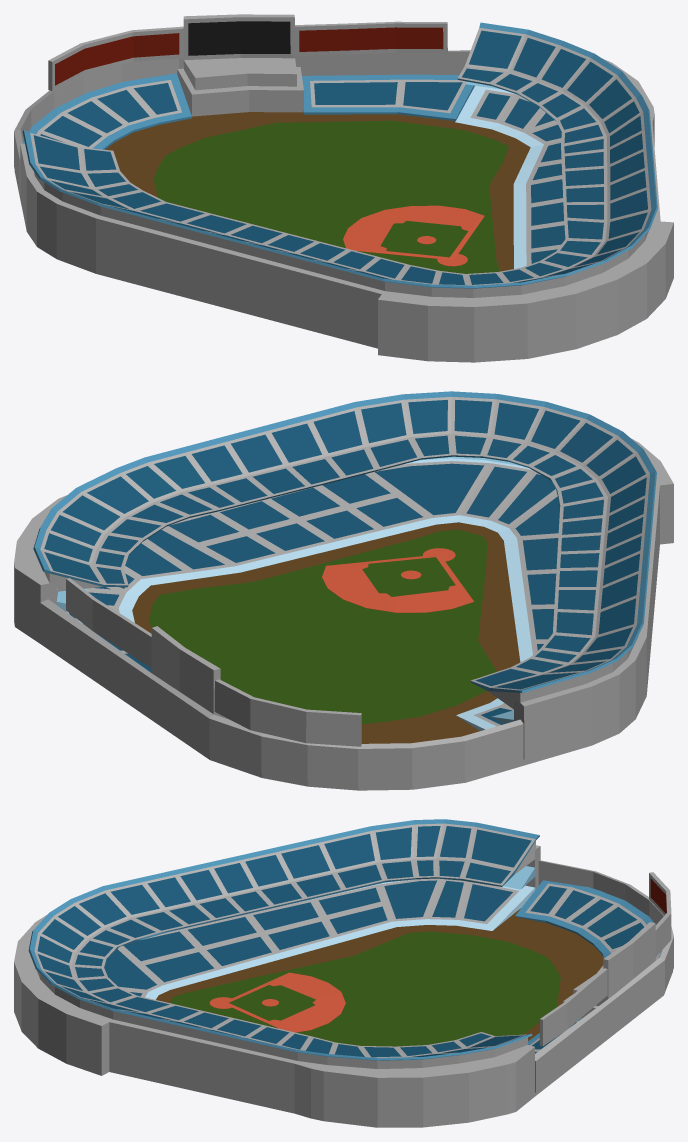
File: yankee_stadium.fbx
3 views of the same model, one above another, from view 1: azimuth 30°, elevation 25°; view 2: azimuth 150°, elevation 25°; view 3: azimuth 270°, elevation 25° (orthographic). The views are drawn at different scales.
Parts seen in each view (by area): view 1: Plane; view 2: Plane; view 3: Plane.
Part boxes in pixels (x1,y1,x2,y2): Plane: (14,14,673,362); Plane: (14,391,673,790); Plane: (14,819,673,1127).
Size of the model in its own units: 425 by 479 by 58.27.
1 material, 1 textured.
